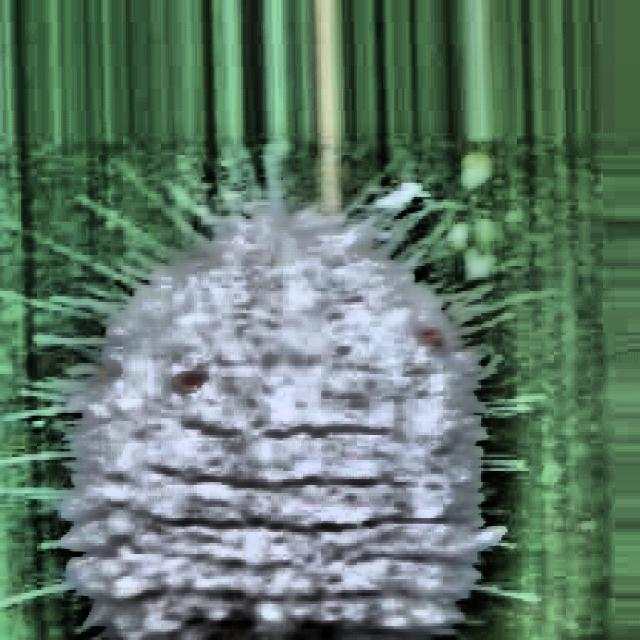Mealy-bug: (41, 179, 525, 640)
